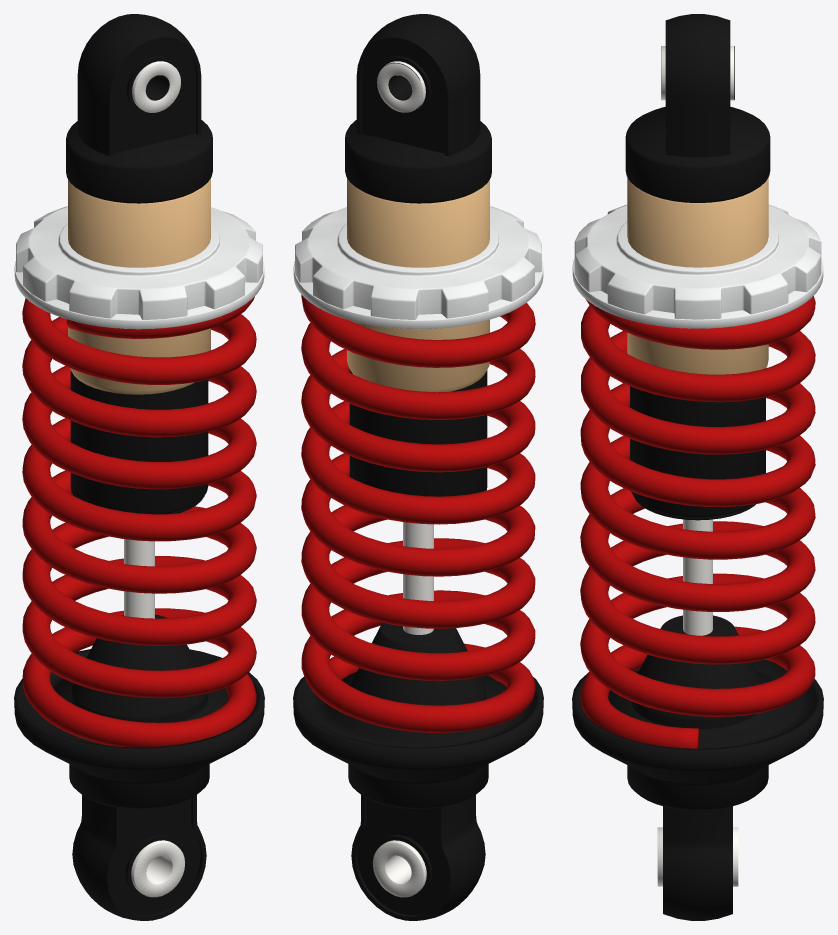
Rendered from coilover.glb.
3 views of the same model, side by side, from view 1: azimuth 30°, elevation 25°; view 2: azimuth 150°, elevation 25°; view 3: azimuth 270°, elevation 25° (orthographic).
Visible parts, largest first — view 1: opruga_low_test_0, lock nut_low_test_0, spring seat_low_test_0, navoj_low_test_0, mount2_low, mount_low_test_0, case_low_test_0, top2_low_test_0, bump stop_low_test_0, lezajevi_low_test_0, lock nut pt2_low_test_0, osovina_low_test_0; view 2: opruga_low_test_0, lock nut_low_test_0, spring seat_low_test_0, navoj_low_test_0, mount2_low, mount_low_test_0, top2_low_test_0, case_low_test_0, bump stop_low_test_0, lezajevi_low_test_0, lock nut pt2_low_test_0, osovina_low_test_0; view 3: opruga_low_test_0, lock nut_low_test_0, spring seat_low_test_0, navoj_low_test_0, mount2_low, top2_low_test_0, case_low_test_0, mount_low_test_0, bump stop_low_test_0, lock nut pt2_low_test_0, osovina_low_test_0, lezajevi_low_test_0.
Part boxes in pixels (x1,y1,x2,y2): opruga_low_test_0: (22, 296, 256, 747); lock nut_low_test_0: (16, 206, 262, 319); spring seat_low_test_0: (14, 649, 264, 808); navoj_low_test_0: (68, 178, 210, 394); mount2_low: (77, 14, 201, 156); mount_low_test_0: (72, 795, 206, 920); case_low_test_0: (70, 370, 208, 514); top2_low_test_0: (66, 120, 212, 203); bump stop_low_test_0: (72, 614, 208, 722); lezajevi_low_test_0: (131, 61, 184, 897); lock nut pt2_low_test_0: (14, 261, 264, 329); osovina_low_test_0: (124, 539, 154, 618); opruga_low_test_0: (301, 295, 535, 732); lock nut_low_test_0: (295, 206, 541, 319); spring seat_low_test_0: (293, 672, 543, 808); navoj_low_test_0: (347, 178, 489, 392); mount2_low: (356, 14, 480, 156); mount_low_test_0: (351, 795, 485, 920); top2_low_test_0: (345, 120, 491, 203); case_low_test_0: (349, 369, 487, 496); bump stop_low_test_0: (350, 623, 485, 705); lezajevi_low_test_0: (373, 61, 426, 897); lock nut pt2_low_test_0: (293, 261, 543, 329); osovina_low_test_0: (403, 522, 433, 634); opruga_low_test_0: (580, 296, 815, 748); lock nut_low_test_0: (574, 204, 821, 319); spring seat_low_test_0: (572, 659, 823, 810); navoj_low_test_0: (627, 177, 768, 374); mount2_low: (665, 14, 730, 157); top2_low_test_0: (625, 106, 770, 202); case_low_test_0: (630, 386, 765, 517); mount_low_test_0: (663, 806, 732, 920); bump stop_low_test_0: (631, 615, 762, 729); lock nut pt2_low_test_0: (572, 259, 823, 328); osovina_low_test_0: (683, 519, 712, 635); lezajevi_low_test_0: (657, 46, 738, 886).
Bounding box in the file's own units: 0.1003 × 0.3933 × 0.1003.
Materials: 1 (1 with a texture image).
